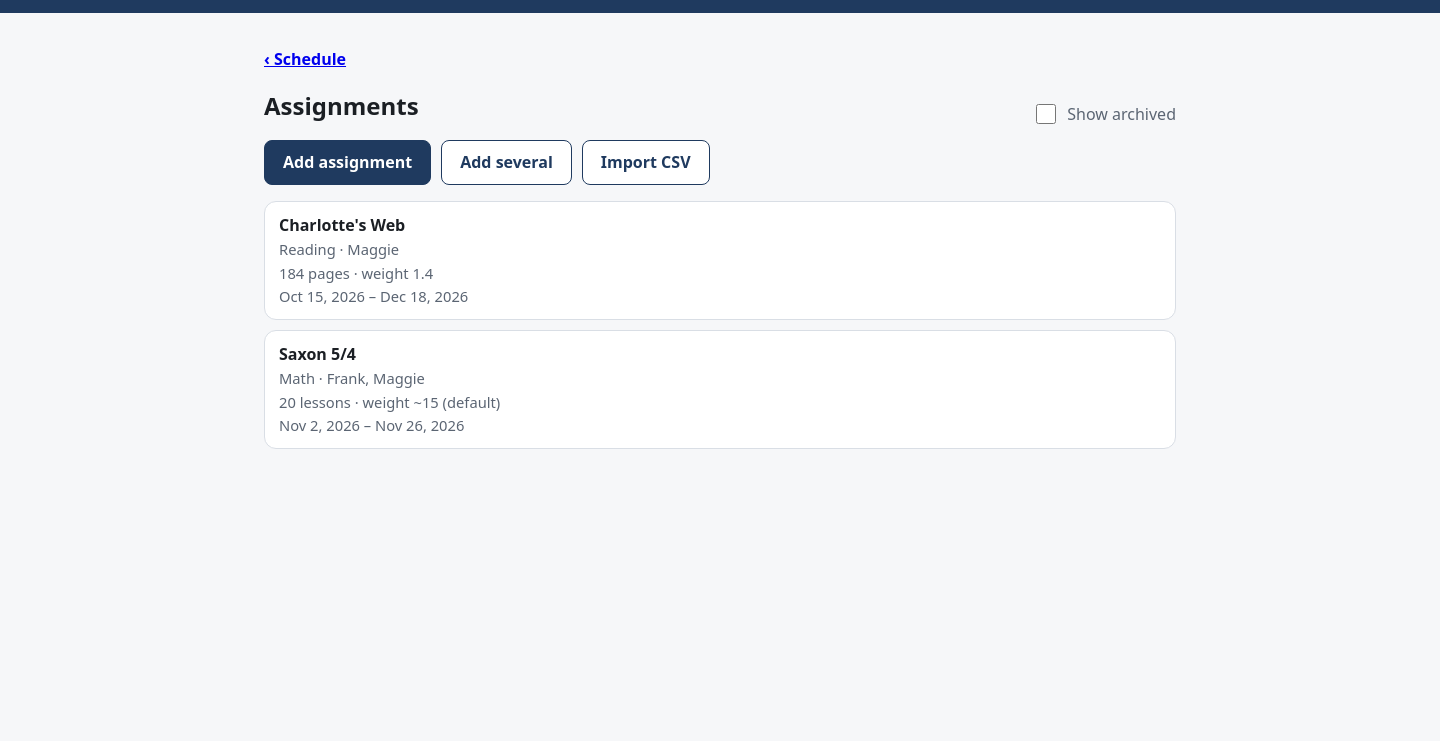
Assignments screen › edit PATCHes only changed fields and replaces children
The width and height of the screenshot is (1440, 741).
Expected: the list named "Assignments" is shown, [264,201,1176,449]
Click the button "Saxon 5/4". click: point(317, 354)
box: [264,330,1176,449]
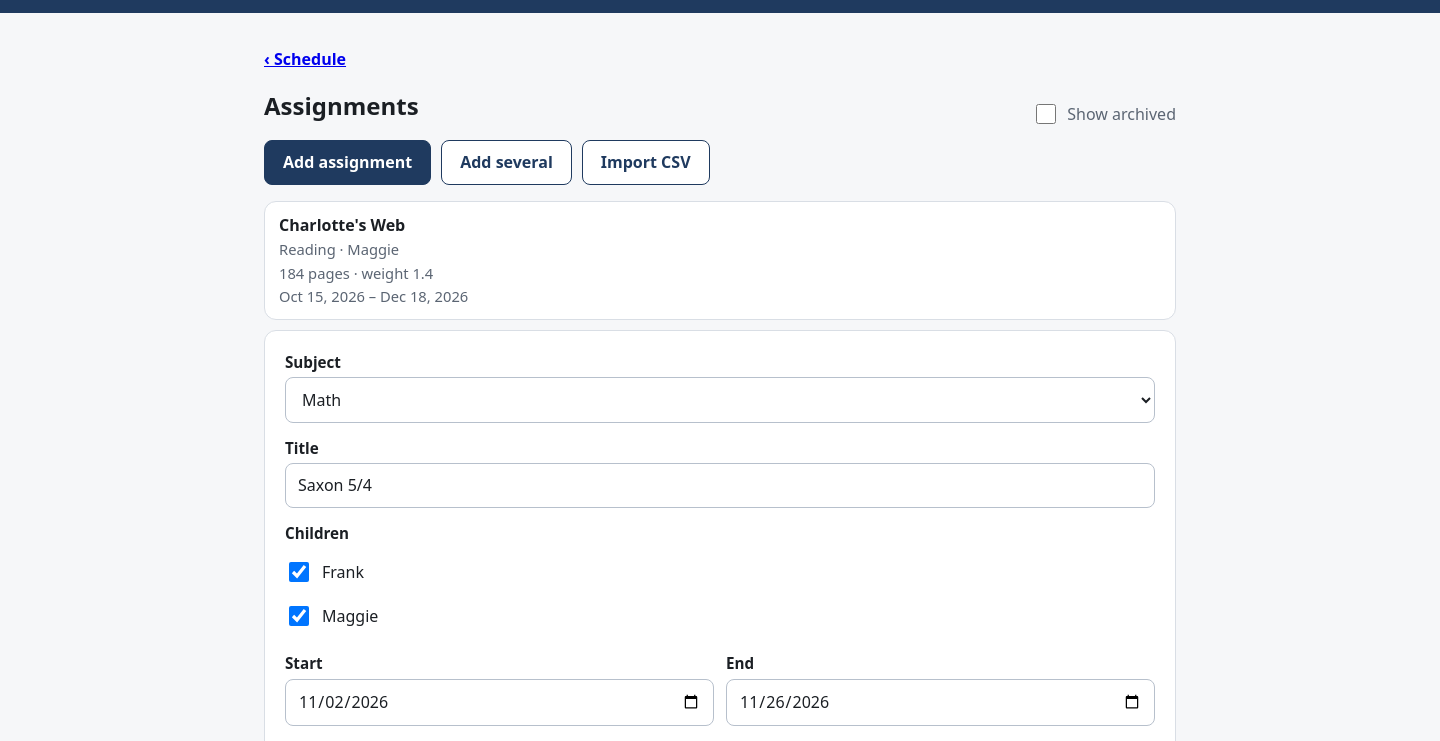
Expected: the field labelled "Title" holds "Saxon 5/4", [285,463,1155,508]
Click the checkbox labelled "Frank". click: point(299, 572)
box: [289,562,309,582]
(page scrolled)
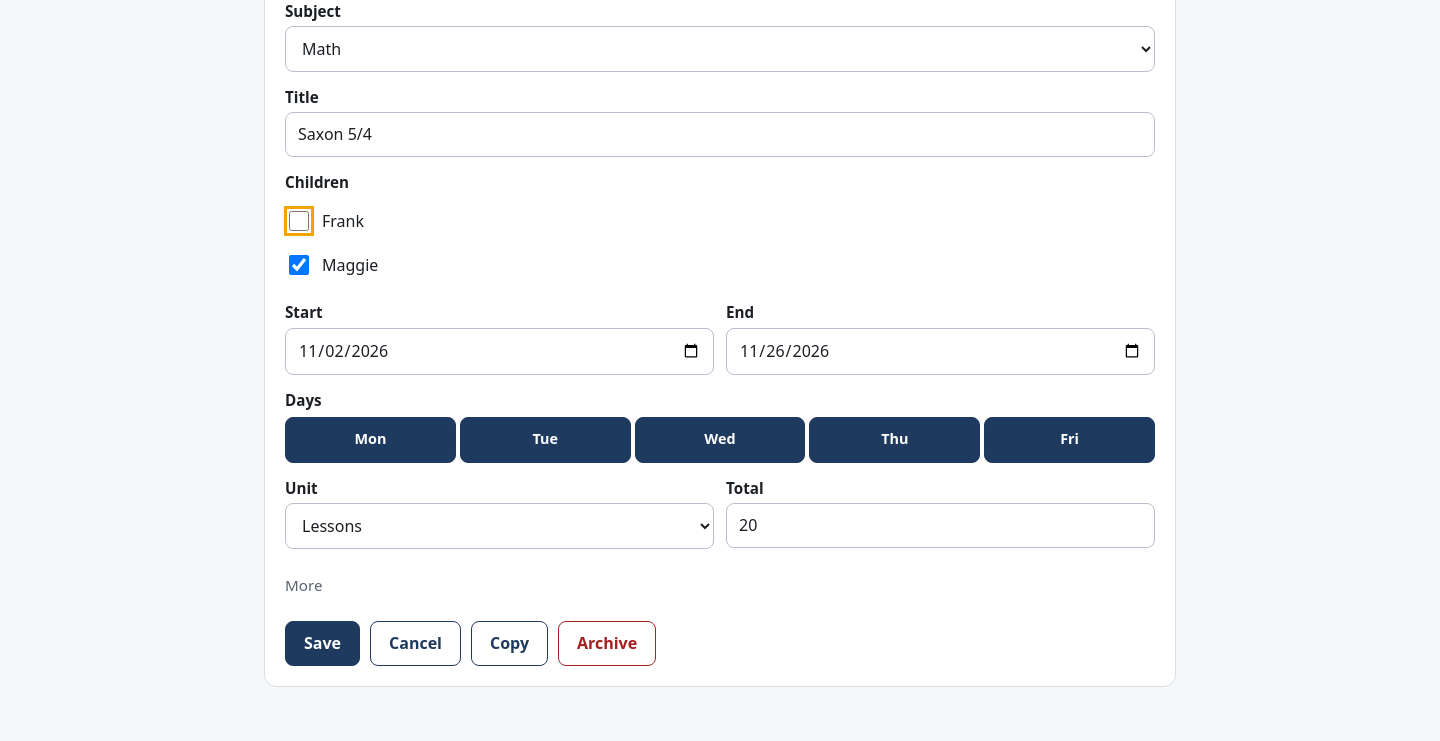
Replace the text in the number field labelled "Total" with "25". click: point(940, 525)
box: [726,503,1155,548]
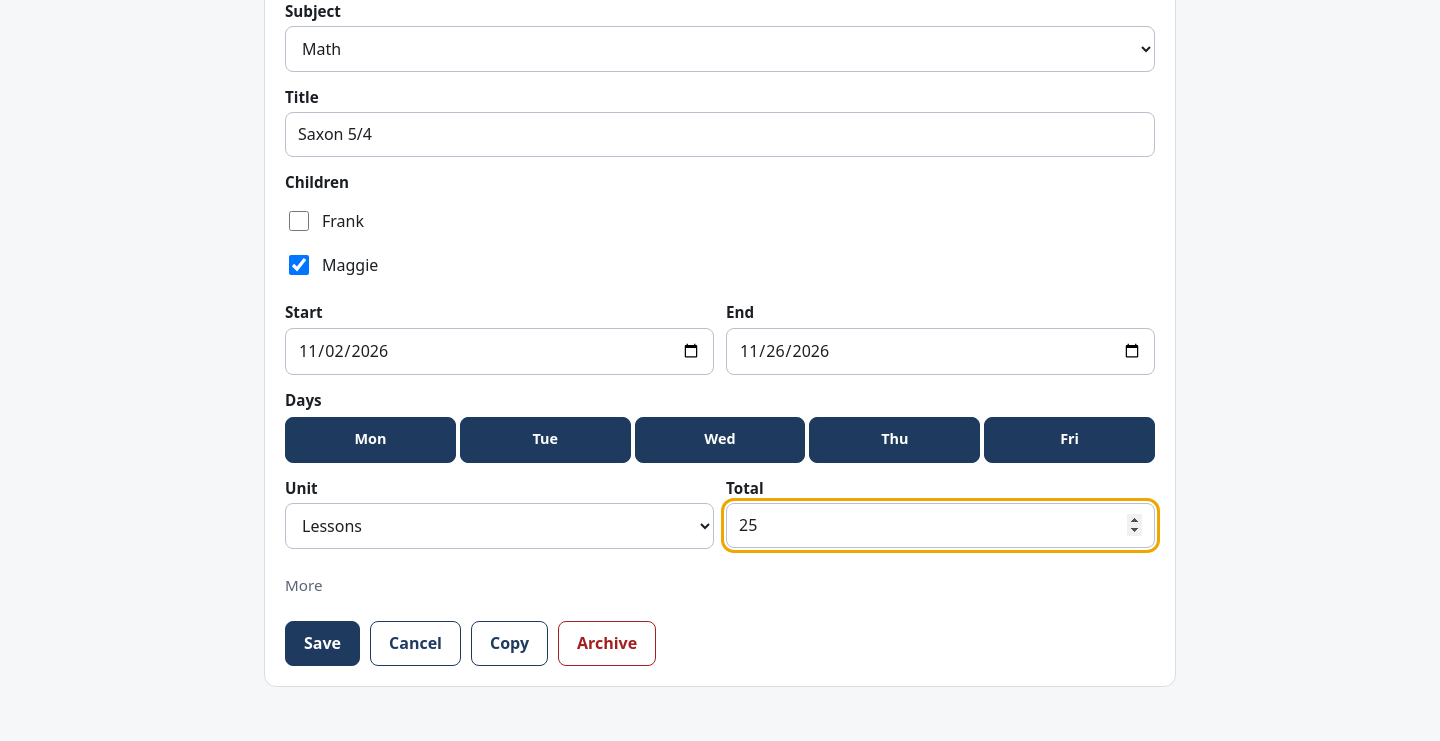
Click the button "Save". click: point(322, 643)
box: [285,621,360,666]
(page scrolled)
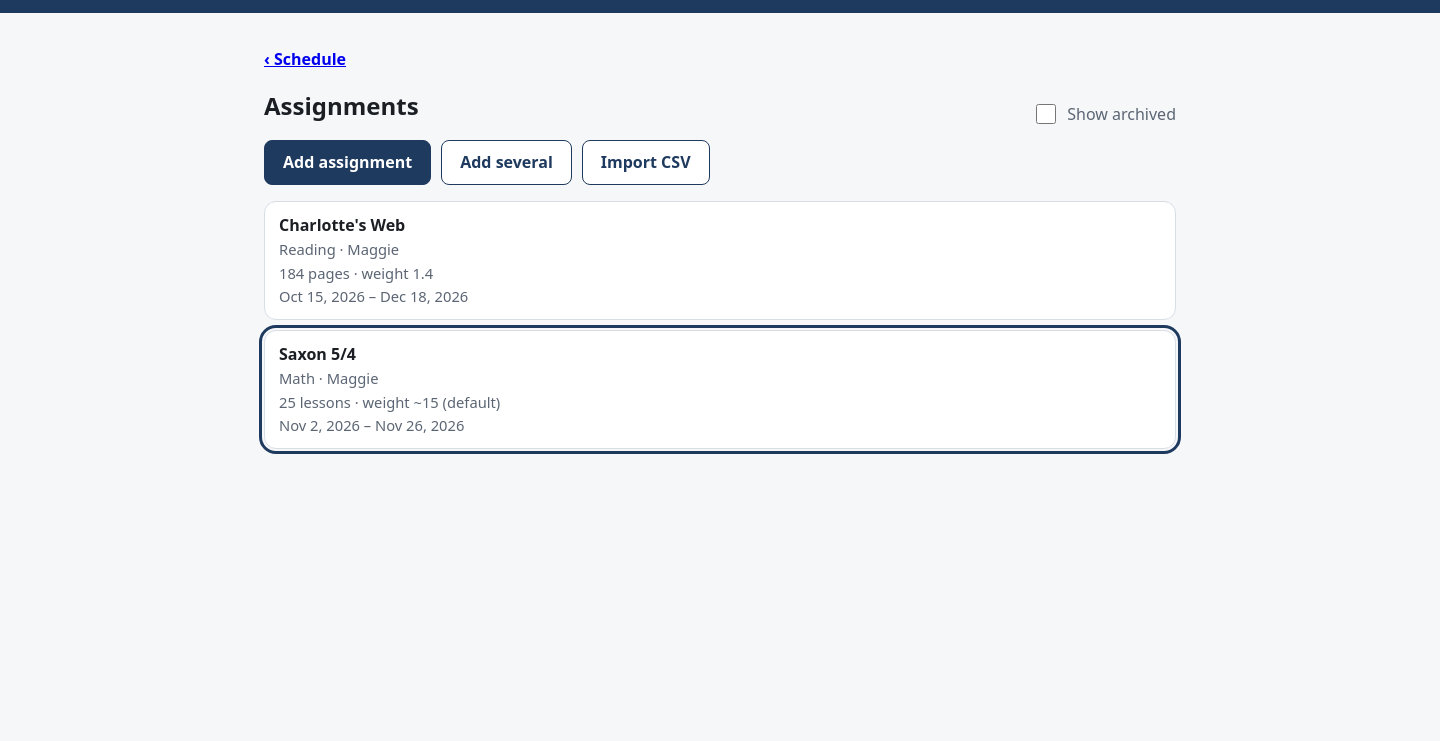
Expected: the text "25 lessons · weight ~15 (default)" is shown, [279,392,500,413]
